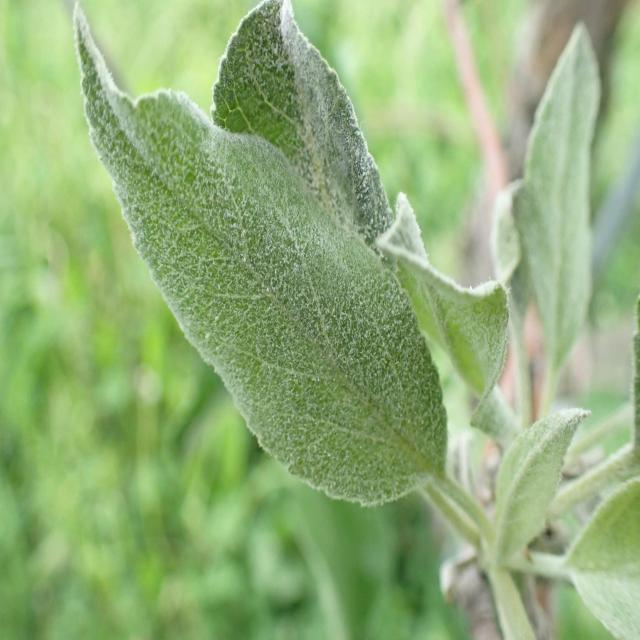Powdery_mildew: (66, 1, 453, 516), (213, 0, 517, 439), (520, 10, 603, 386), (488, 399, 594, 573), (540, 466, 640, 640)
